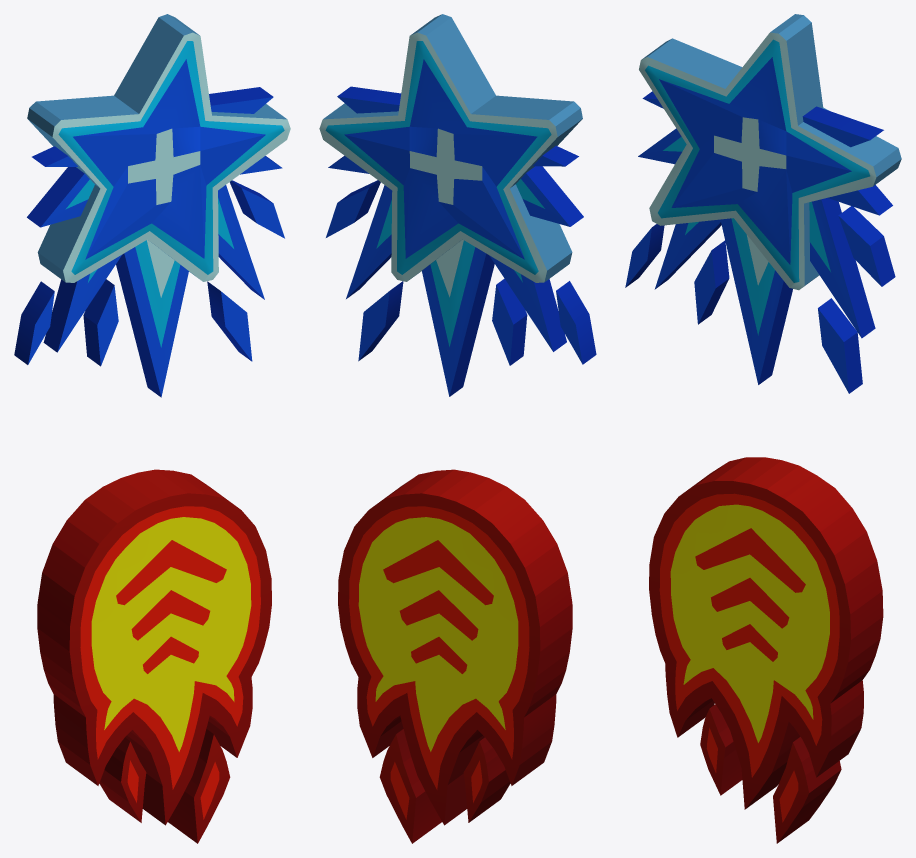
The model's file is IngameUI.glb.
3 renders of one model, left to right at view 1: azimuth 30°, elevation 25°; view 2: azimuth 150°, elevation 25°; view 3: azimuth 330°, elevation 25°, orthographic.
Parts seen in each view (by area): view 1: headstart_big, ScoreBooster; view 2: headstart_big, ScoreBooster; view 3: headstart_big, ScoreBooster.
Boxes of the visible parts, left/top/right/bottom form: headstart_big: left=37, top=469, right=271, bottom=843; ScoreBooster: left=14, top=14, right=290, bottom=397; headstart_big: left=338, top=469, right=572, bottom=843; ScoreBooster: left=319, top=14, right=596, bottom=396; headstart_big: left=649, top=457, right=883, bottom=843; ScoreBooster: left=625, top=14, right=901, bottom=393.
Size of the model in its own units: 59.31 by 178 by 12.95.
1 material, 1 textured.
